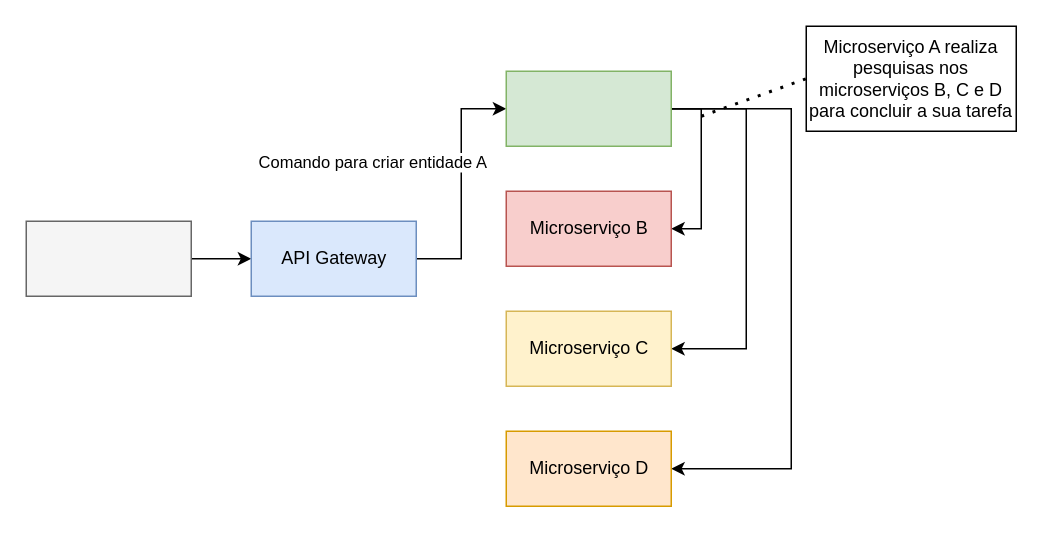
The diagram is 1043 pixels wide and 533 high, and some of its shapes have lost their labels. Here are the shapes that lost their labels. From the top down, the centre of each, then its label:
[588,108]: Microserviço A
[108,258]: Web App
